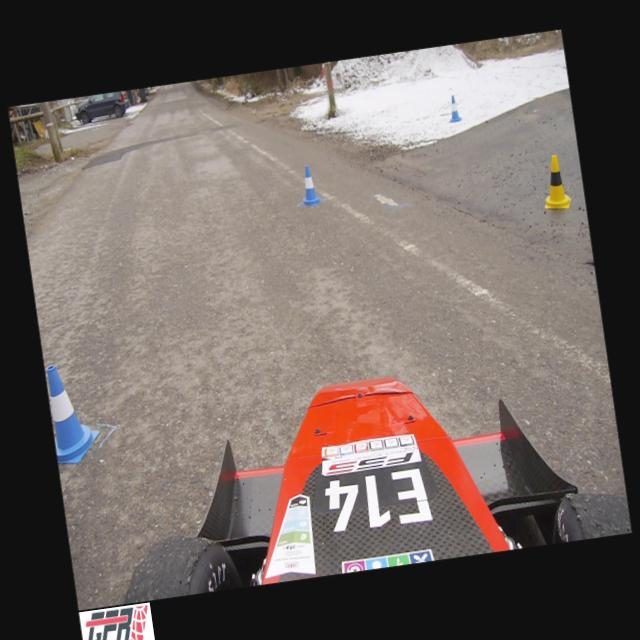blue_cone: (44, 360, 104, 466), (297, 165, 323, 207), (447, 95, 462, 122)
yellow_cone: (538, 154, 572, 210)
